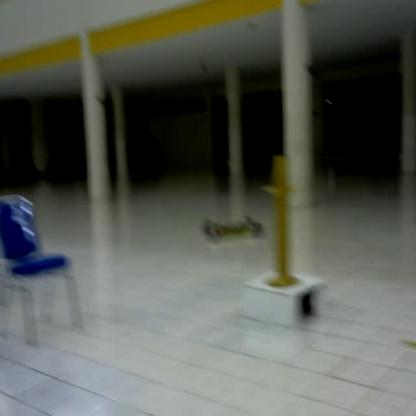pole: (262, 154, 306, 292)
